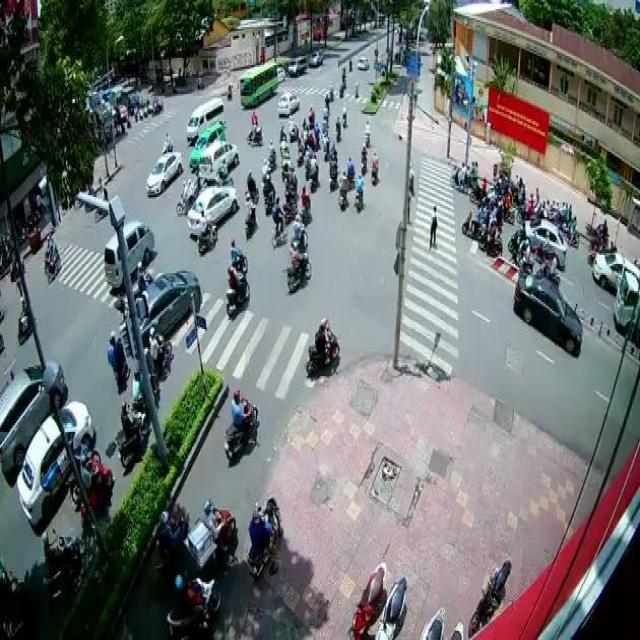bicycle: (269, 193, 288, 246)
bus: (239, 62, 278, 106)
car: (16, 400, 94, 526), (0, 356, 65, 472), (512, 275, 581, 358), (133, 268, 201, 347), (186, 186, 239, 235), (522, 217, 567, 266), (144, 152, 181, 195), (198, 139, 239, 177)
motorcycle: (224, 387, 259, 465), (306, 316, 340, 378), (284, 239, 312, 291), (224, 262, 248, 316), (148, 326, 172, 372), (260, 170, 275, 217), (229, 237, 248, 273), (243, 190, 256, 240), (298, 181, 313, 222), (338, 166, 348, 210), (308, 148, 318, 190), (354, 170, 364, 211), (371, 148, 379, 186)
truck: (102, 220, 154, 286), (185, 98, 224, 141)
